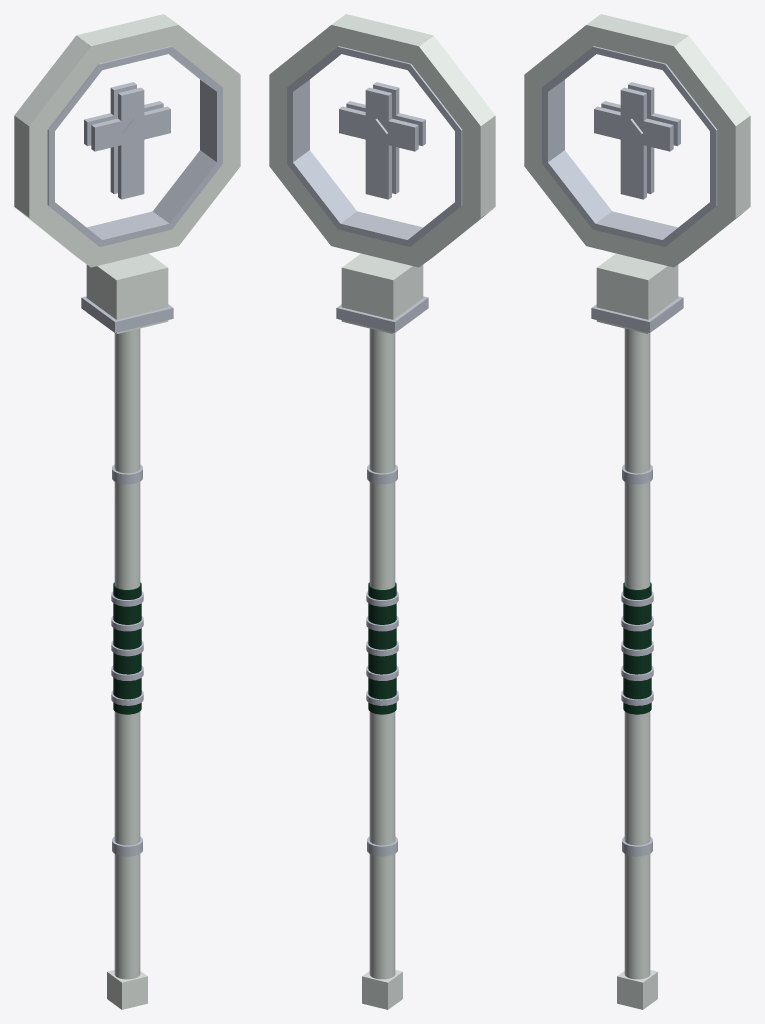
3 views of the same model, side by side, from view 1: azimuth 30°, elevation 25°; view 2: azimuth 150°, elevation 25°; view 3: azimuth 330°, elevation 25° (orthographic).
Visible parts, largest first — view 1: halo-staff; view 2: halo-staff; view 3: halo-staff.
Part boxes in pixels (<box>): halo-staff: <box>14,14,240,1009</box>; halo-staff: <box>269,14,495,1009</box>; halo-staff: <box>524,14,750,1009</box>.
Size of the model in its own units: 0.3499 by 1.53 by 0.0966.
